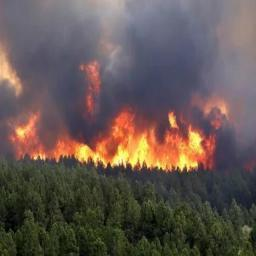Heavy smoke: (0, 0, 255, 124)
Large fire: (0, 76, 255, 170)
